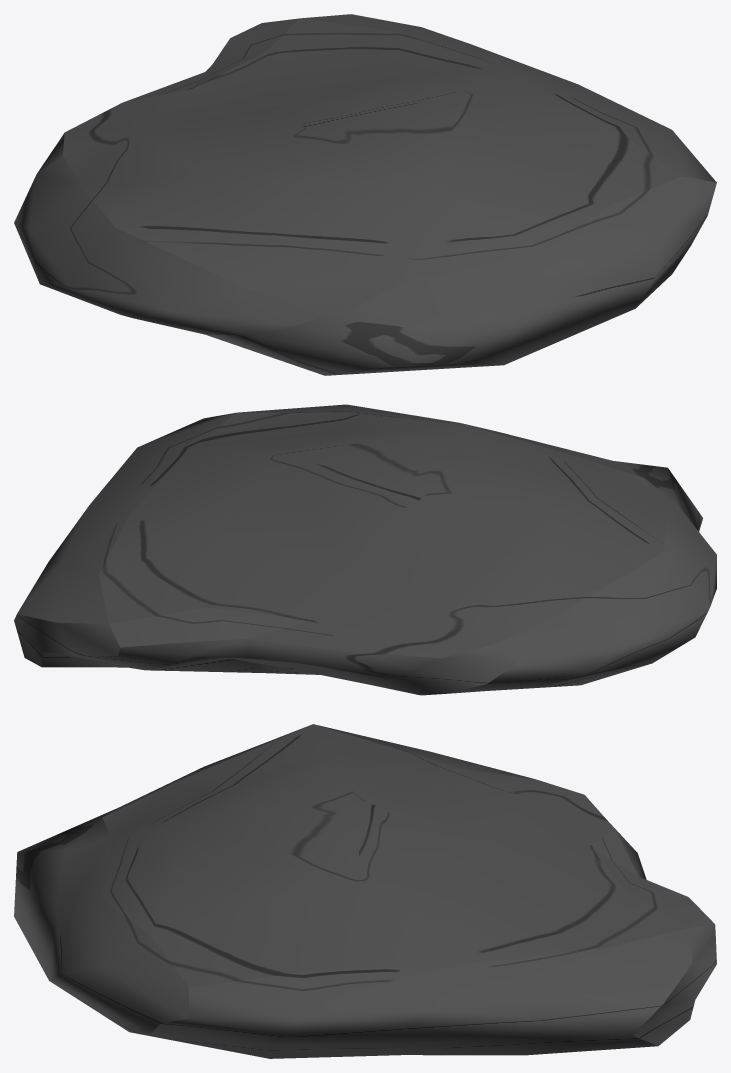
File: Mesh_PlatformRock3_AM.fbx
3 views of the same model, one above another, from view 1: azimuth 30°, elevation 25°; view 2: azimuth 150°, elevation 25°; view 3: azimuth 270°, elevation 25° (orthographic). The views are drawn at different scales.
Parts seen in each view (by area): view 1: pCube11; view 2: pCube11; view 3: pCube11.
Boxes of the visible parts, x1=… form: pCube11: x1=14, y1=14, x2=716, y2=375; pCube11: x1=14, y1=404, x2=716, y2=695; pCube11: x1=14, y1=724, x2=716, y2=1058.
Bounding box in the file's own units: 571 × 122 × 592.
